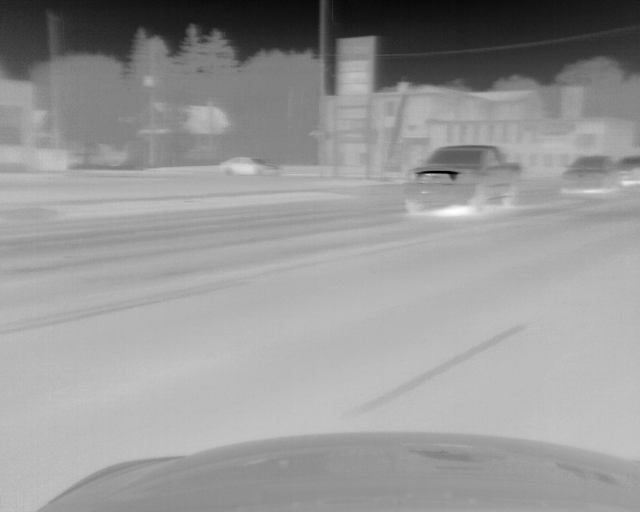car: (405, 143, 523, 218), (559, 154, 619, 193), (219, 155, 280, 175), (618, 154, 640, 185)
